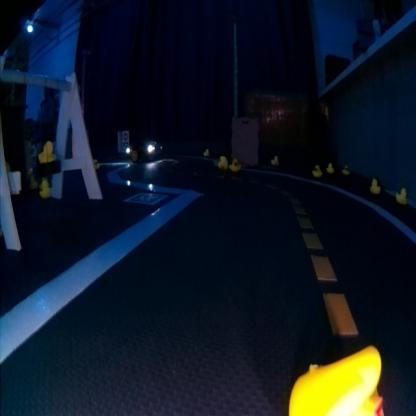Duckie: (289, 346, 384, 414), (39, 141, 56, 161), (40, 180, 51, 196), (396, 188, 408, 202), (219, 155, 229, 169), (231, 158, 242, 170), (370, 180, 380, 192), (314, 164, 322, 176), (272, 154, 280, 164), (328, 162, 334, 172), (344, 165, 350, 173), (204, 147, 210, 155)
Duckiebot: (126, 138, 162, 162)
QR code: (125, 192, 168, 204)
